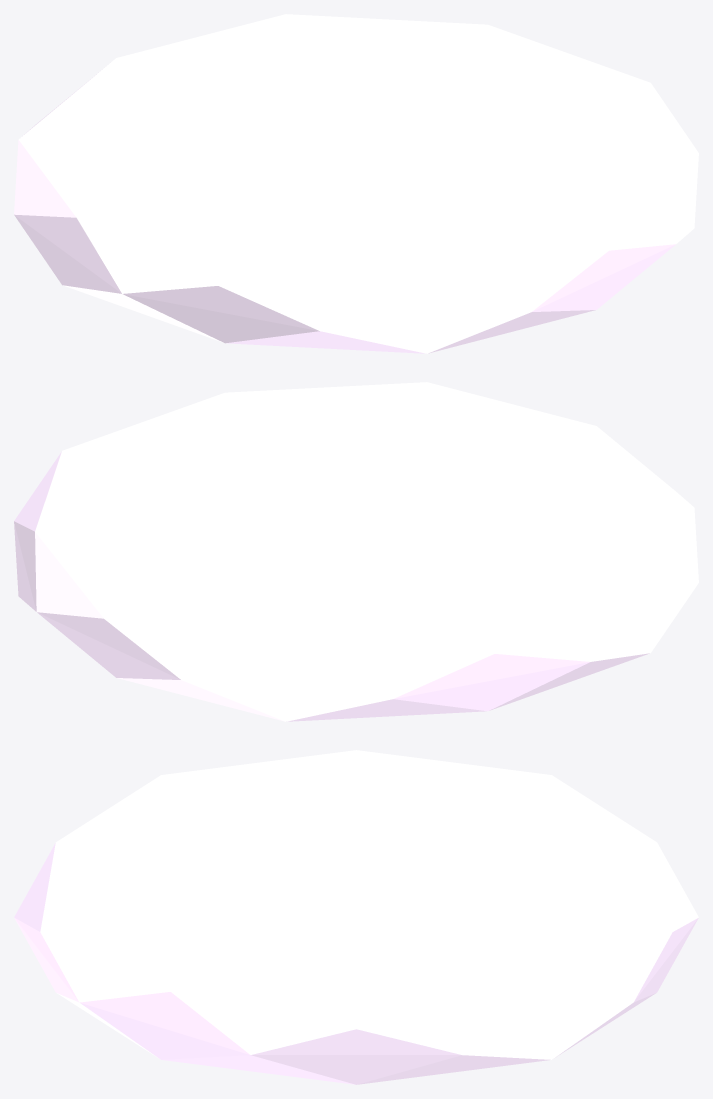
File: plat.glb
The picture shows the model from 3 angles, top to bottom: view 1: azimuth 30°, elevation 25°; view 2: azimuth 150°, elevation 25°; view 3: azimuth 270°, elevation 25°; orthographic projection. The views are drawn at different scales.
Parts seen in each view (by area): view 1: Icosphère; view 2: Icosphère; view 3: Icosphère.
Part boxes in pixels (x1,y1,x2,y2): Icosphère: (14, 14, 698, 353); Icosphère: (14, 382, 698, 721); Icosphère: (14, 750, 698, 1084).
Size of the model in its own units: 6.7 by 1.43 by 6.91.
